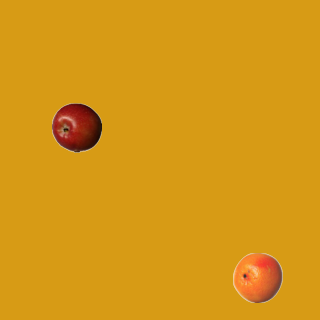Apple Braeburn: (51, 102, 101, 152)
Grapefruit Pink: (232, 252, 282, 302)
